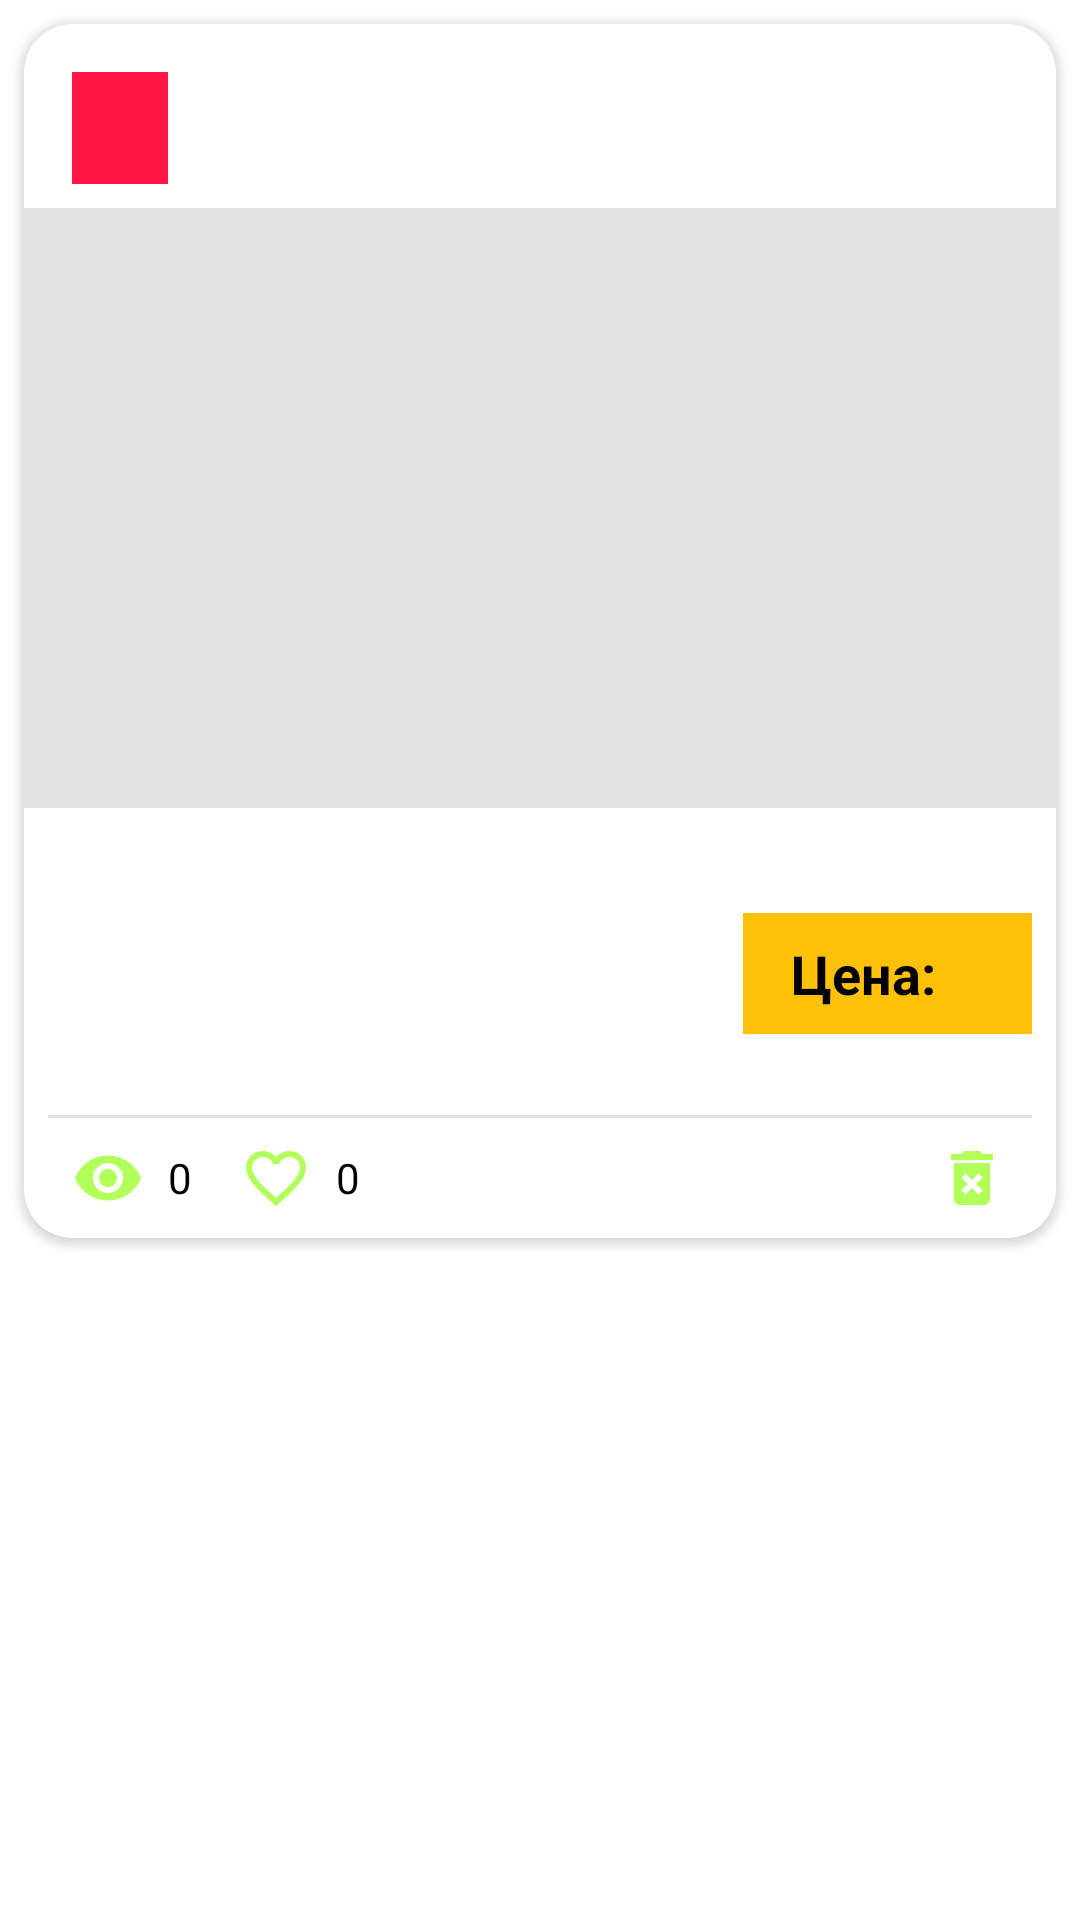

Locate icon controls on the screen. Image size 1080 x 1920, boxes as (x1, y1, x2, y2).
delete ad: (951, 1151, 993, 1205)
eye: (75, 1155, 141, 1201)
fav: (246, 1151, 306, 1206)
